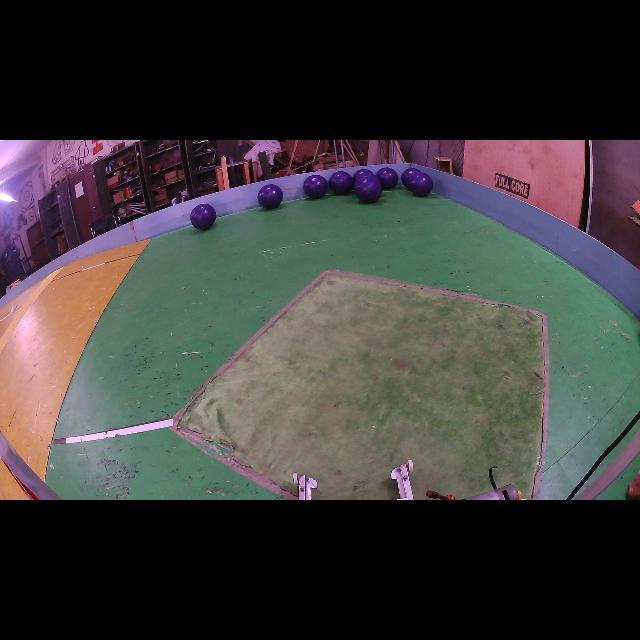P: (354, 175, 382, 202), (190, 204, 216, 230), (258, 184, 284, 209), (304, 175, 328, 199), (329, 171, 354, 194), (409, 172, 432, 196), (376, 168, 399, 189), (401, 168, 421, 188), (352, 169, 374, 182)
